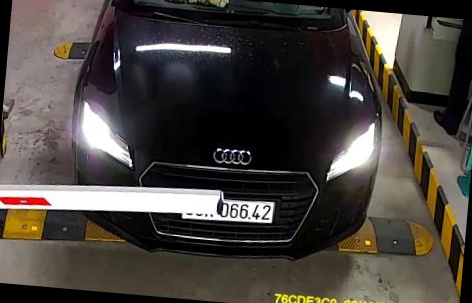plate: (186, 183, 282, 234)
